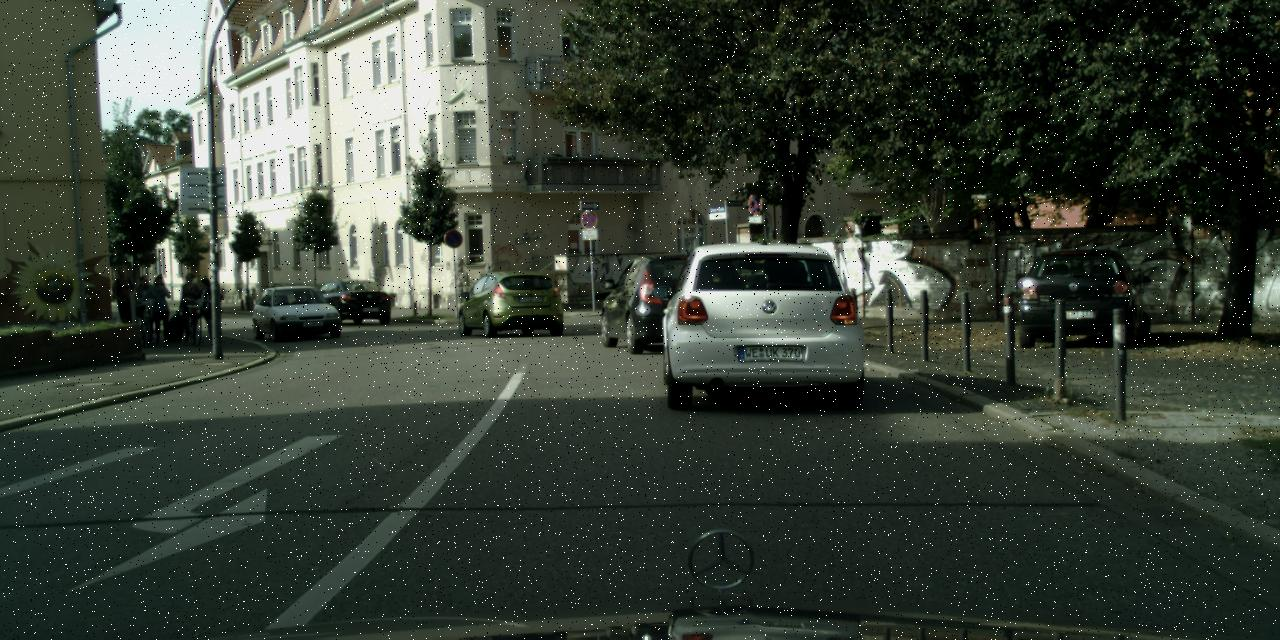ped: (110, 266, 139, 340), (175, 272, 203, 341), (146, 273, 174, 341), (132, 274, 159, 342), (196, 277, 223, 344)
